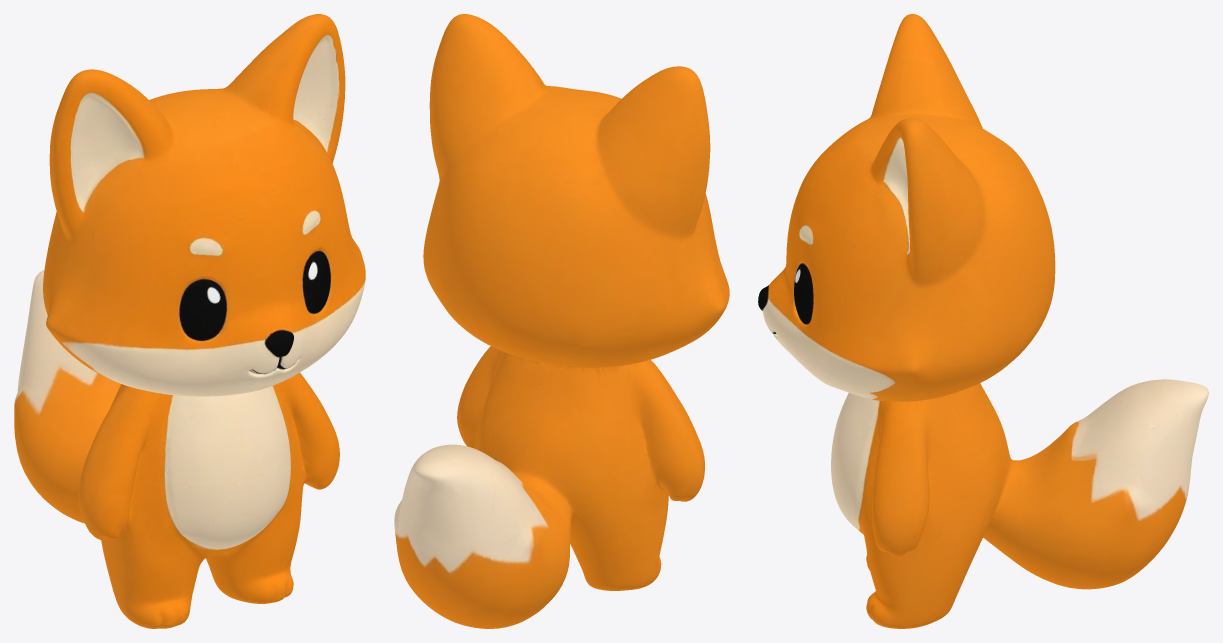
The model's file is dog-model.glb.
3 views of the same model, side by side, from view 1: azimuth 30°, elevation 25°; view 2: azimuth 150°, elevation 25°; view 3: azimuth 270°, elevation 25° (orthographic). The views are drawn at different scales.
Size of the model in its own units: 1.1 by 1.9 by 1.46.
Materials: 1 (1 with a texture image).
